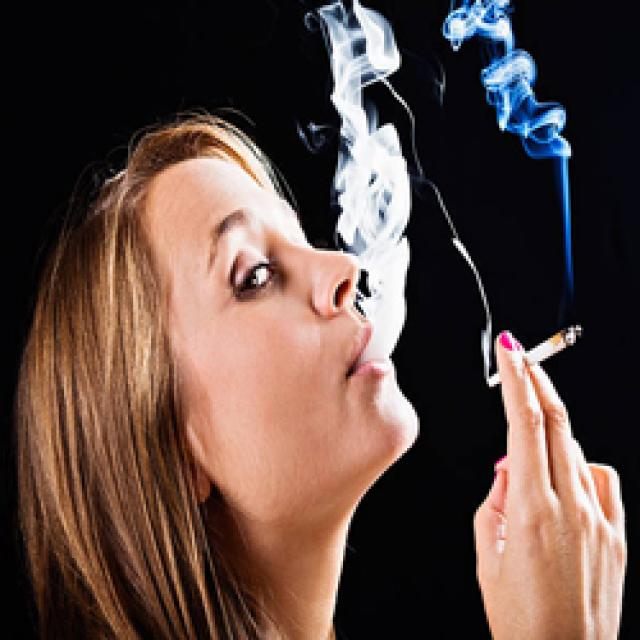Smooking: (487, 317, 589, 396)
